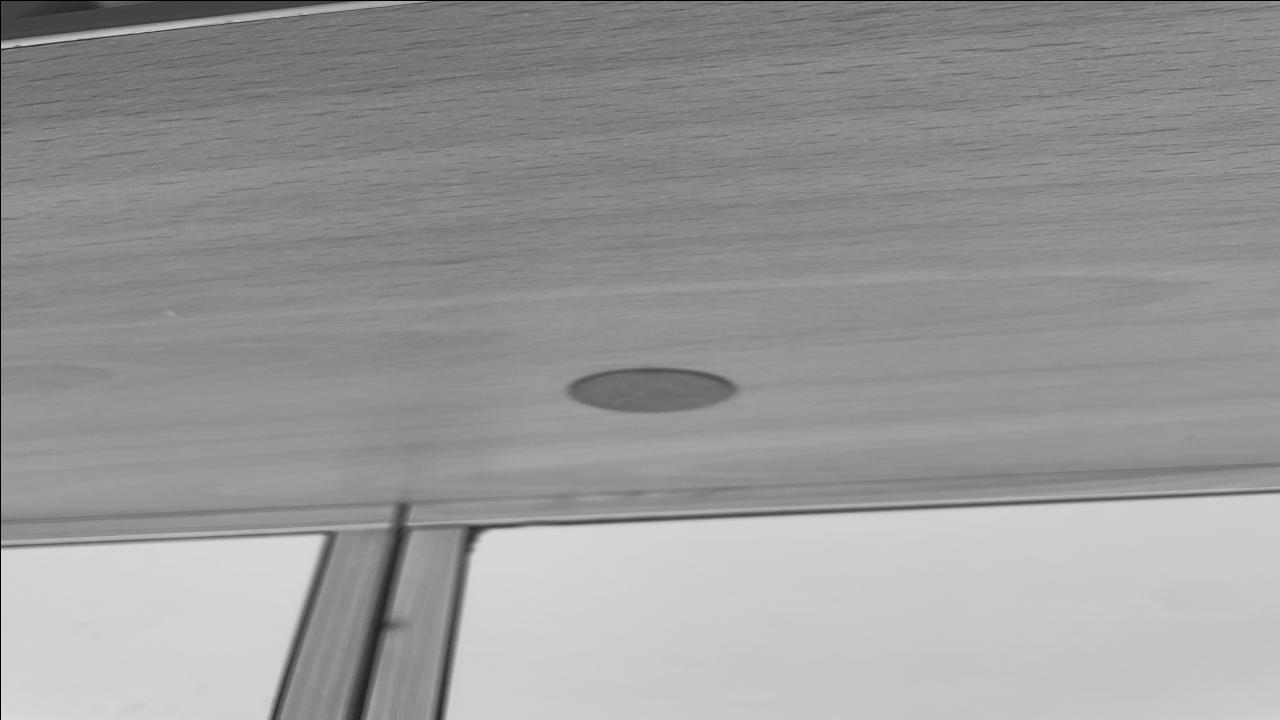coin: (559, 366, 739, 416)
